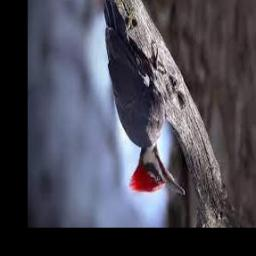Woodpecker: (103, 0, 185, 195)
